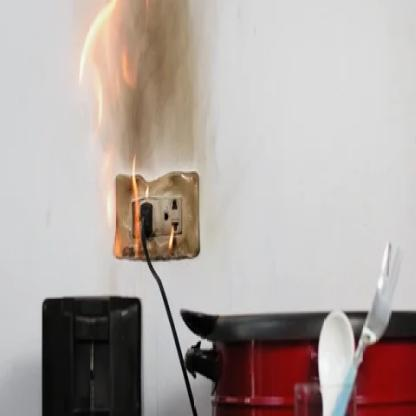fire: (79, 0, 144, 265)
smoke: (118, 3, 206, 174)
